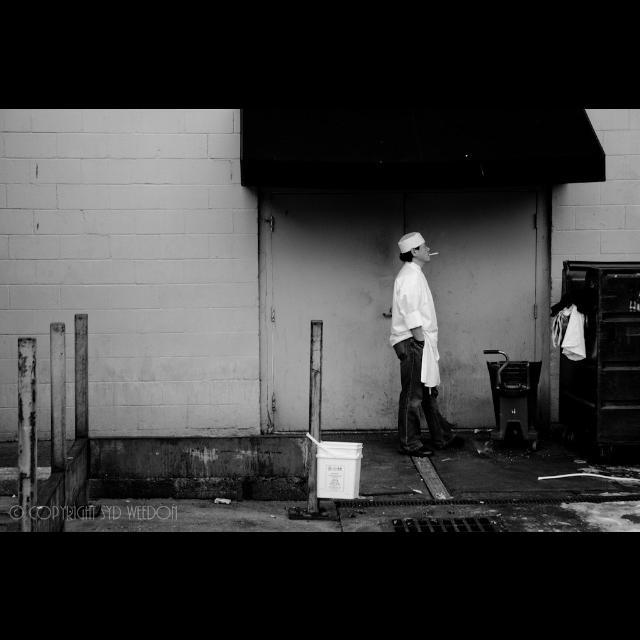rokok: (431, 250, 439, 256)
